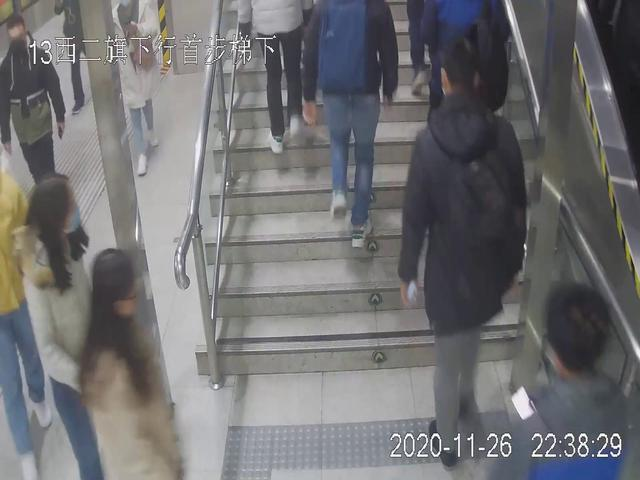person: (397, 45, 533, 475), (17, 170, 108, 480), (81, 237, 192, 480), (301, 1, 401, 251), (1, 10, 82, 225), (106, 1, 167, 181)
